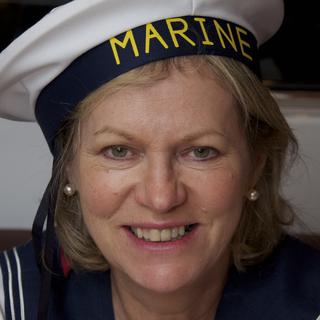eye: (176, 142, 228, 165), (93, 143, 147, 164)
